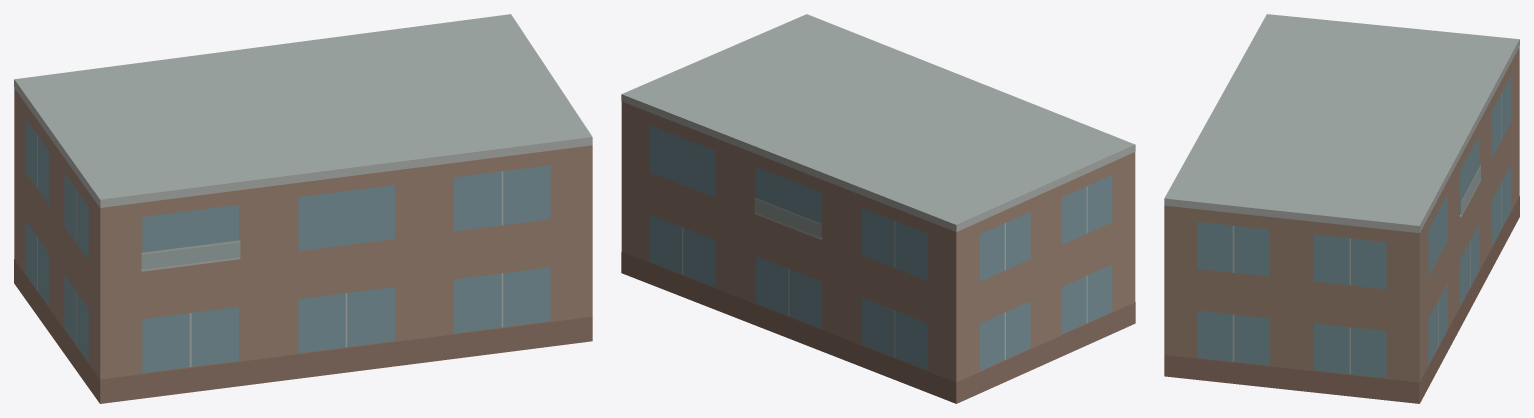
File: survey-upis-32868524.glb
3 renders of one model, left to right at view 1: azimuth 30°, elevation 25°; view 2: azimuth 150°, elevation 25°; view 3: azimuth 270°, elevation 25°, orthographic. The views are drawn at different scales.
Parts seen in each view (by area): view 1: survey-upis-32868524.tmp; view 2: survey-upis-32868524.tmp; view 3: survey-upis-32868524.tmp.
Part boxes in pixels (x1,y1,x2,y2): survey-upis-32868524.tmp: (14,14,592,403); survey-upis-32868524.tmp: (621,14,1135,403); survey-upis-32868524.tmp: (1164,14,1519,403).
Size of the model in its own units: 15.61 by 6.1 by 11.06.
